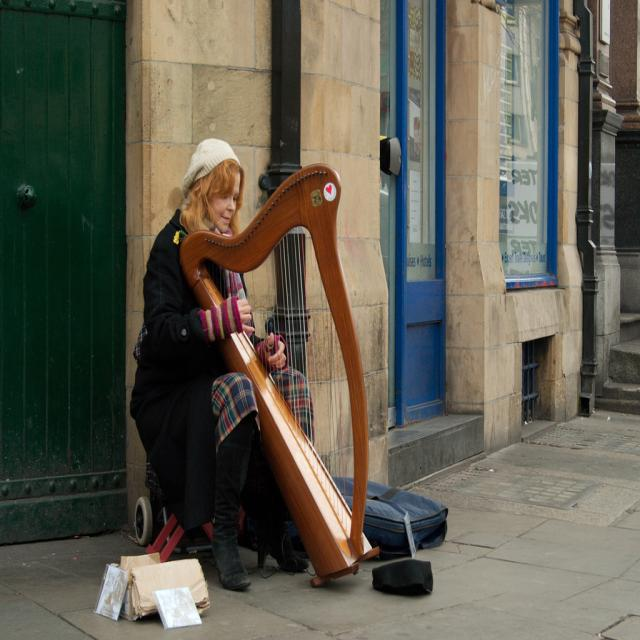harp: (178, 161, 382, 588)
